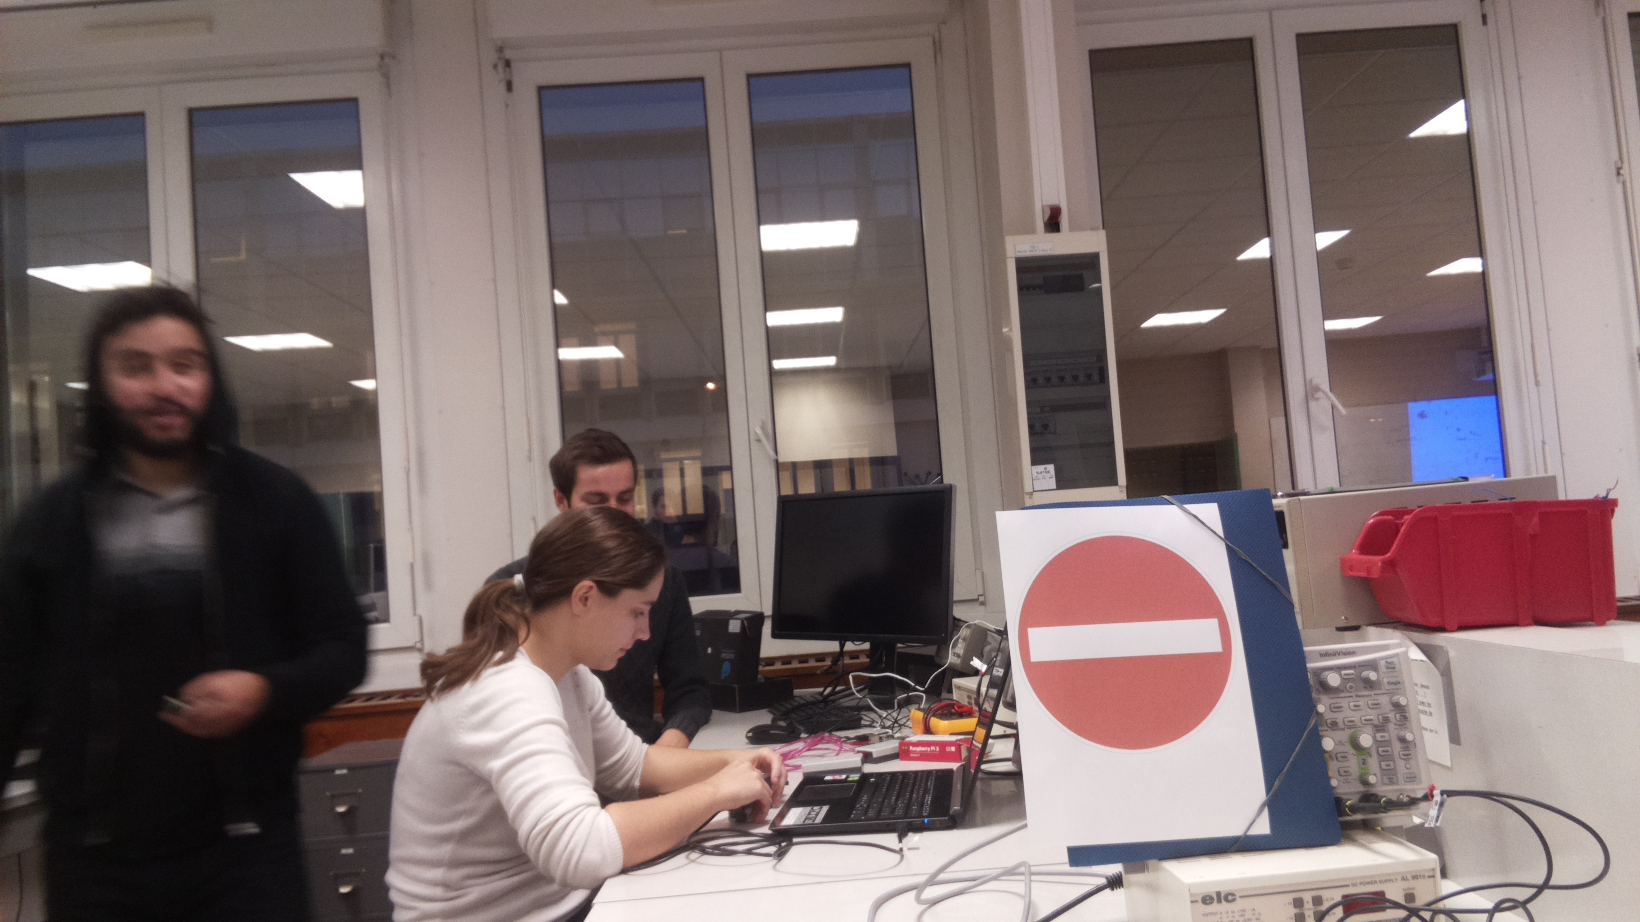prohibited: (1015, 532, 1238, 753)
